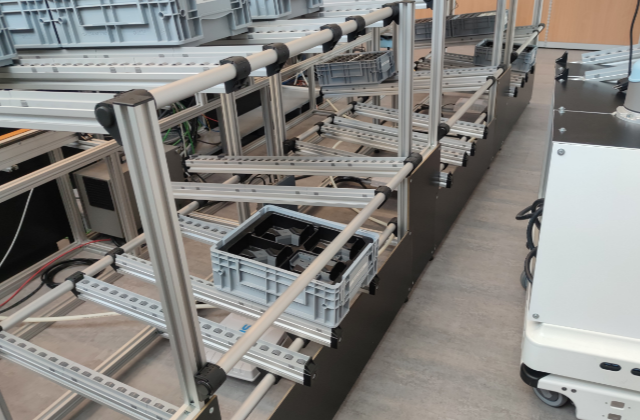Box: (211, 202, 379, 329), (316, 53, 404, 88)
